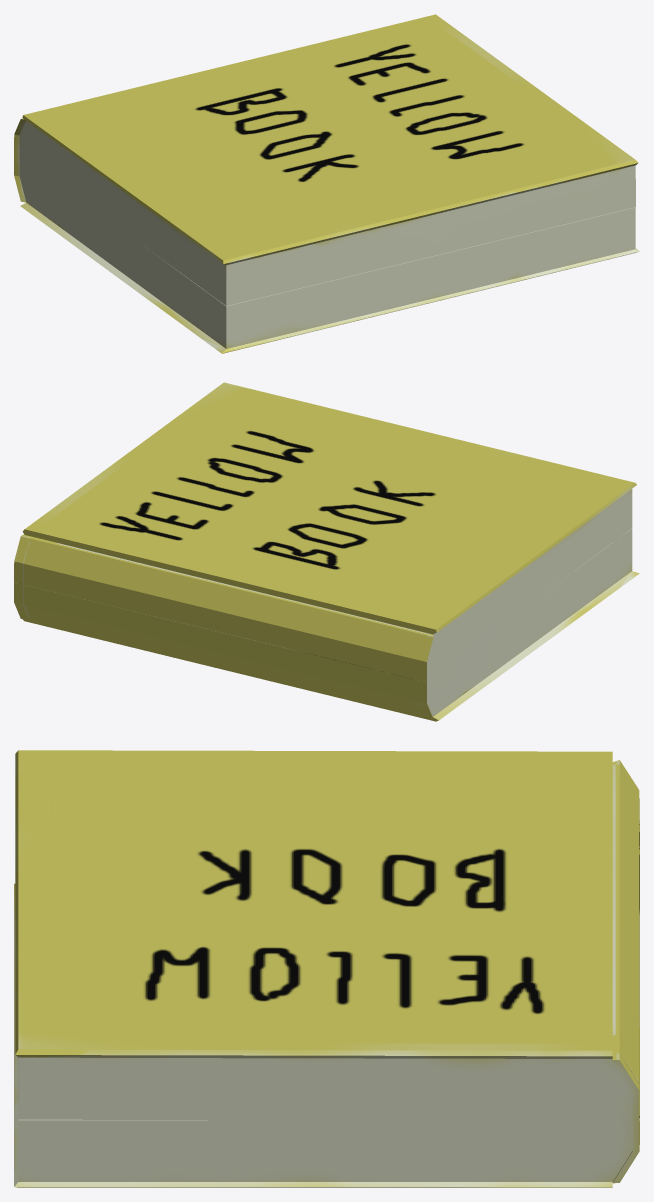
The model's file is book-animated.fbx.
3 views of the same model, one above another, from view 1: azimuth 30°, elevation 25°; view 2: azimuth 150°, elevation 25°; view 3: azimuth 270°, elevation 25° (orthographic). The views are drawn at different scales.
Parts seen in each view (by area): view 1: Cube.009, Cube.008; view 2: Cube.009, Cube.008; view 3: Cube.009, Cube.008.
Boxes of the visible parts, x1,y1,x2,y2 form: Cube.009: (14,14,638,305); Cube.008: (14,155,639,353); Cube.009: (14,382,636,681); Cube.008: (14,528,639,721); Cube.009: (15,750,639,1122); Cube.008: (14,820,639,1187).
Size of the model in its own units: 137 by 29.06 by 119.
